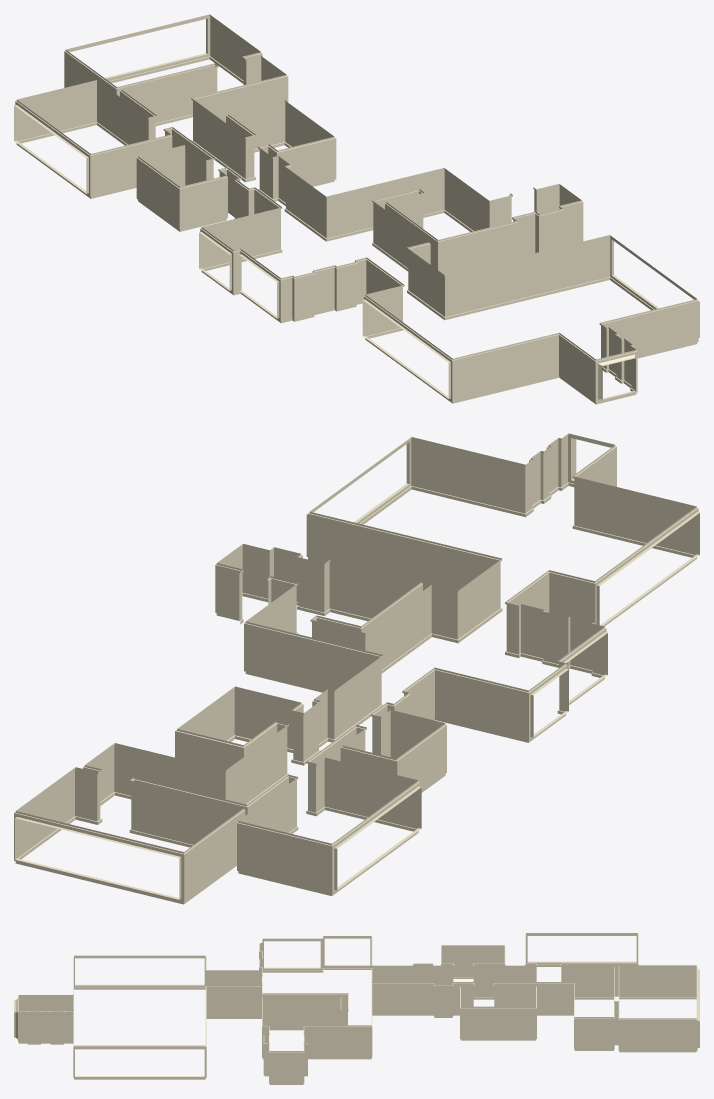
The model's file is Walls03_v2.FBX.
3 views of the same model, one above another, from view 1: azimuth 30°, elevation 25°; view 2: azimuth 150°, elevation 25°; view 3: azimuth 270°, elevation 25° (orthographic). The views are drawn at different scales.
Visible parts, largest first — view 1: Wall001; view 2: Wall001; view 3: Wall001.
Boxes of the visible parts, x1,y1,x2,y2 form: Wall001: (14,14,699,404); Wall001: (14,433,699,904); Wall001: (14,933,699,1084).
Bounding box in the file's own units: 3836 × 508 × 9304.
